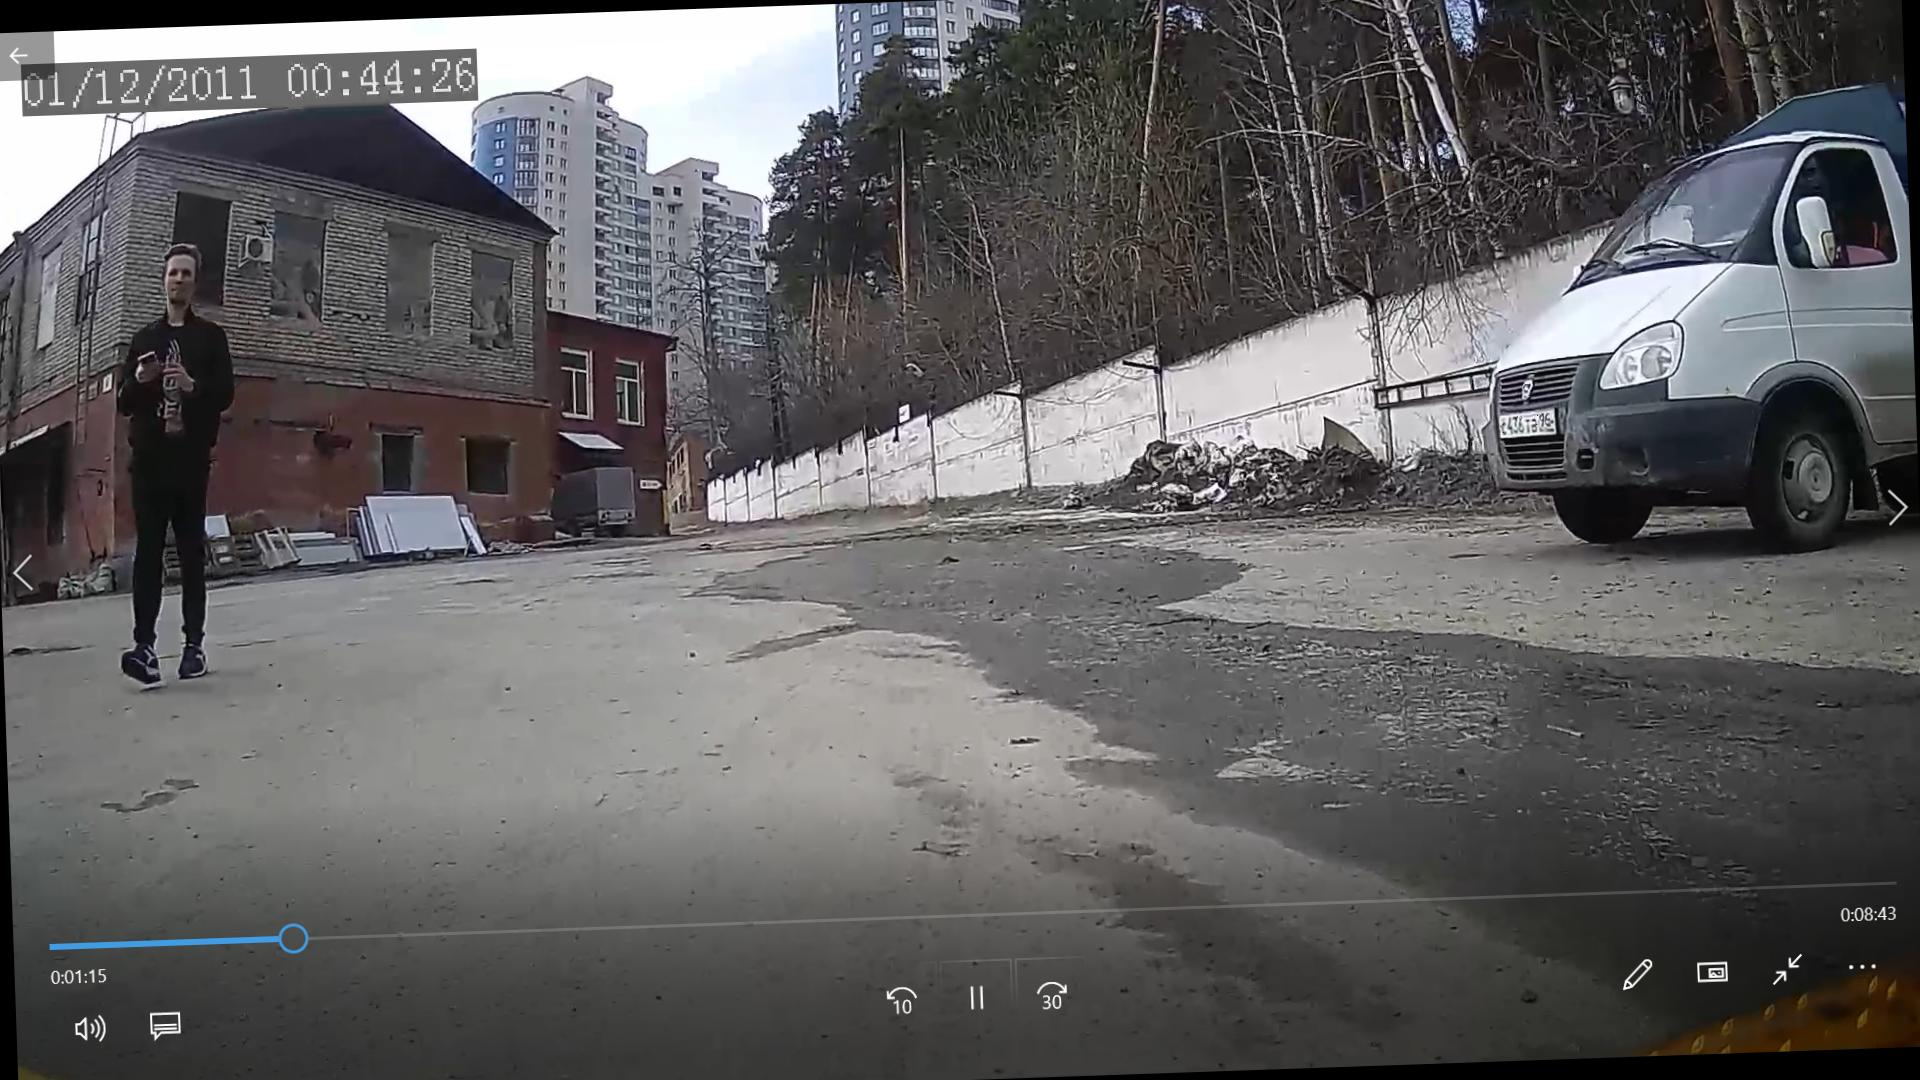plate: (1502, 416, 1552, 445)
